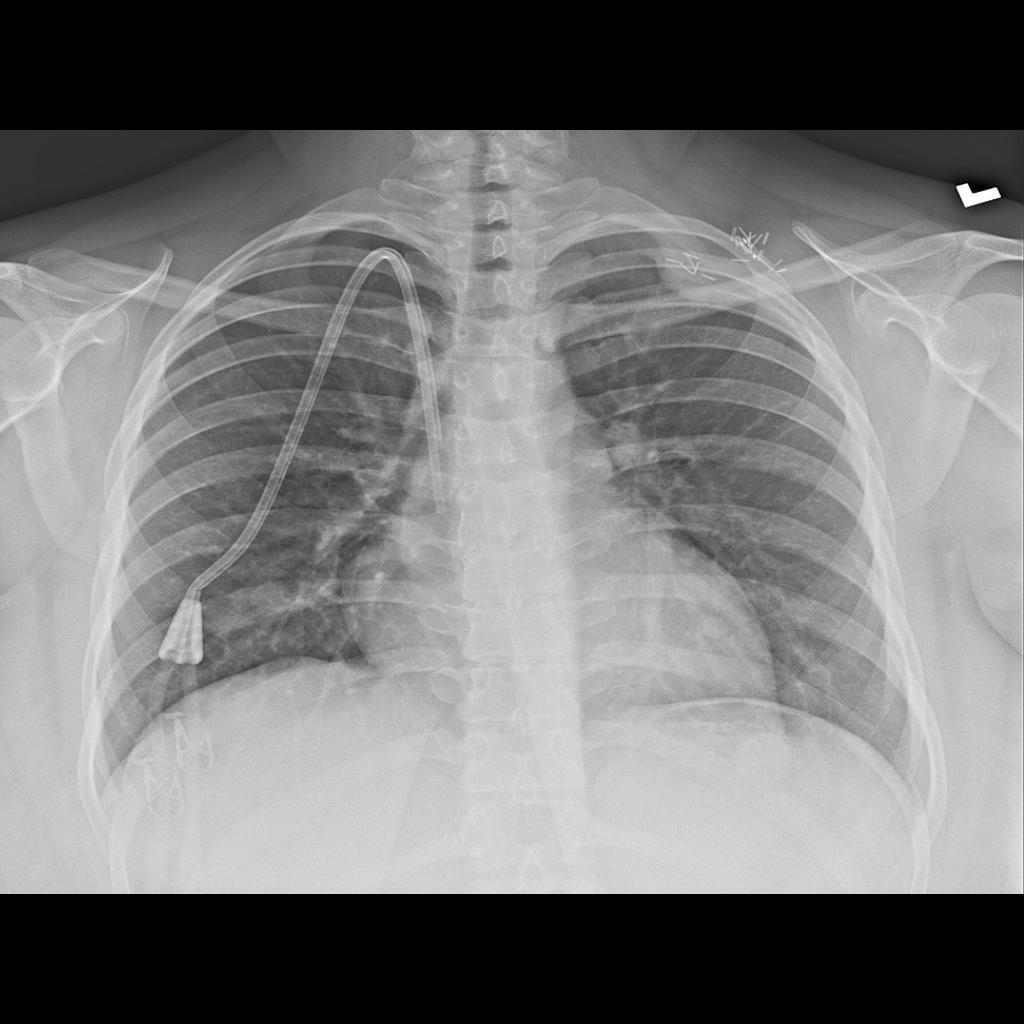Nodule: (250, 585, 294, 618)
